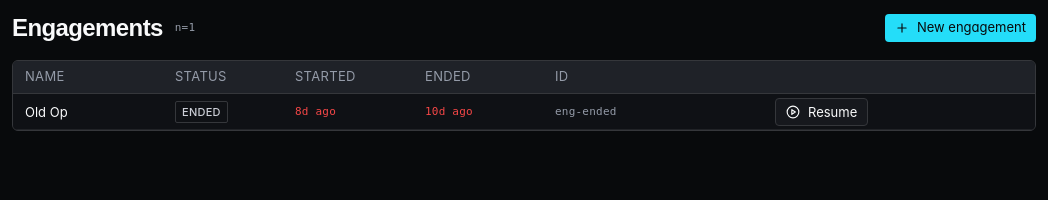
Test: EngagementsView › surfaces a resume error inline
This screenshot has width=1048, height=200.
Check: the text "Old Op" is shown, box top-left (25, 102), bottom-right (68, 122)
Click the button with aria-label "resume old op". click: (822, 112)
box: top-left (775, 98), bottom-right (868, 126)
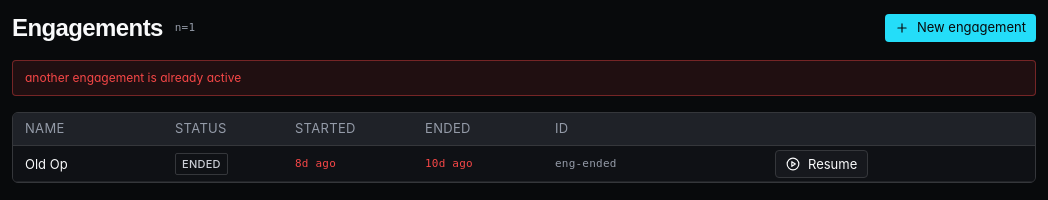
Check: the text "another engagement is already active" is shown, box top-left (12, 60), bottom-right (1036, 96)
